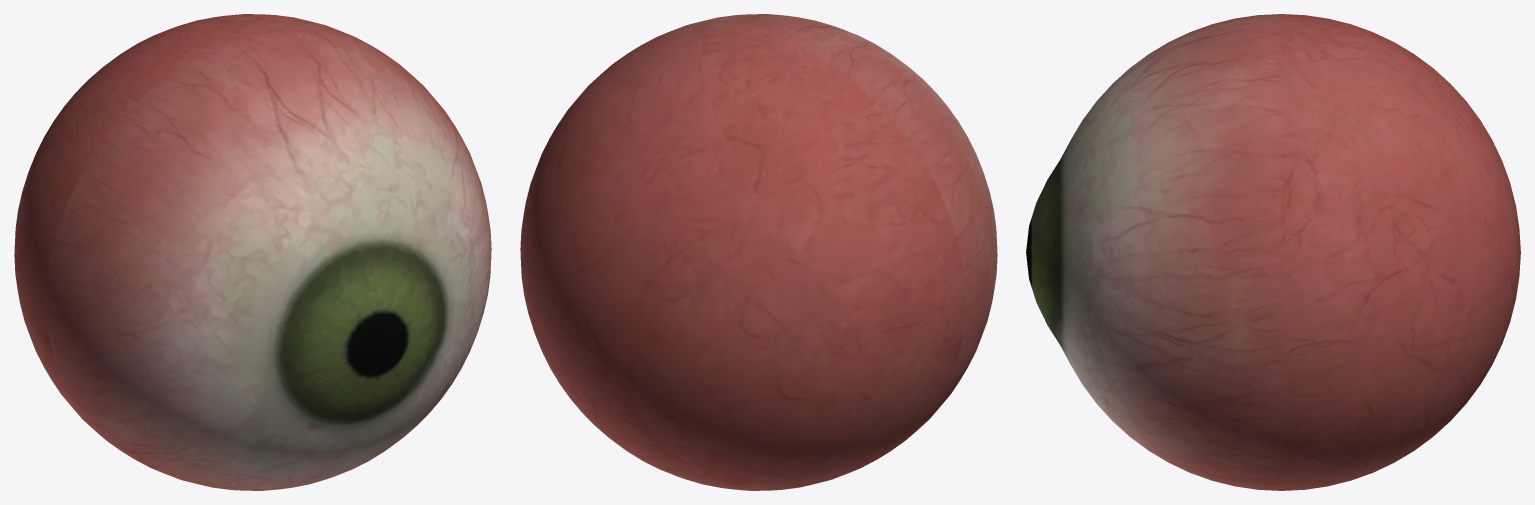
Rendered from eye_green.glb.
3 views of the same model, side by side, from view 1: azimuth 30°, elevation 25°; view 2: azimuth 150°, elevation 25°; view 3: azimuth 270°, elevation 25° (orthographic).
Parts seen in each view (by area): view 1: Sphere_002; view 2: Sphere_002; view 3: Sphere_002.
Boxes of the visible parts, bbox=[...] form: Sphere_002: bbox=[14, 14, 491, 490]; Sphere_002: bbox=[520, 14, 997, 490]; Sphere_002: bbox=[1026, 14, 1520, 490].
Size of the model in its own units: 0.1245 by 0.1245 by 0.1291.
Materials: 1 (1 with a texture image).
